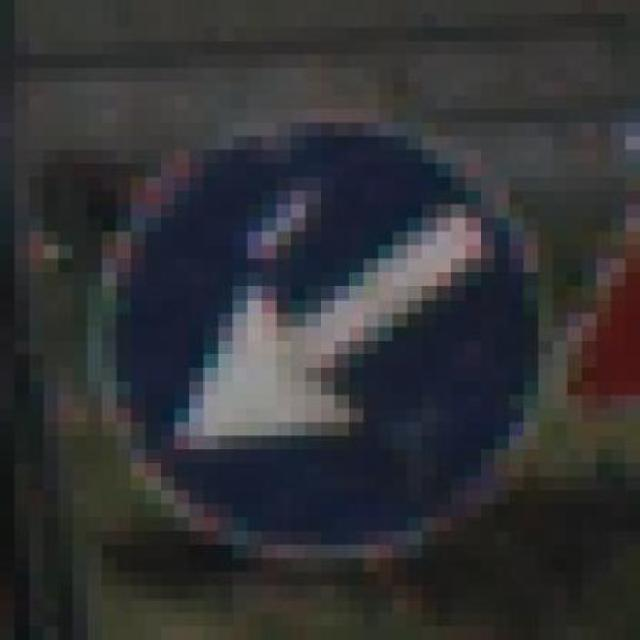Keep-Left: (90, 69, 556, 573)
